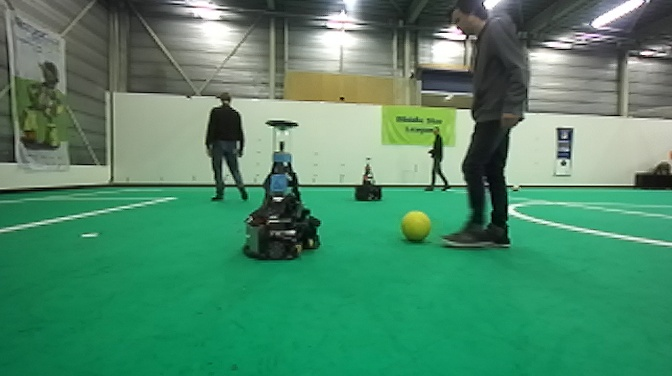ball: (398, 209, 436, 245), (509, 181, 523, 194)
human: (440, 1, 529, 250), (203, 91, 251, 202), (422, 126, 450, 192)
robot: (239, 119, 324, 262), (353, 154, 385, 204)
